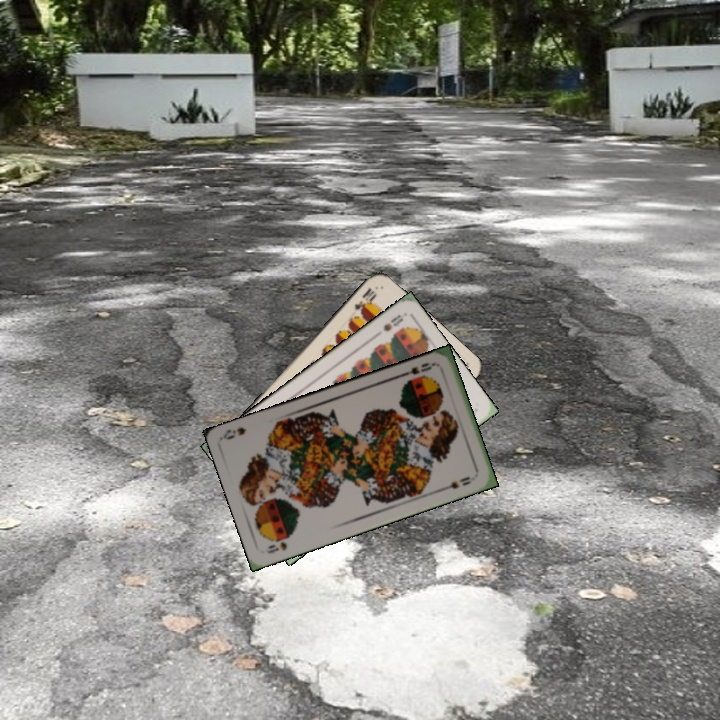E10: (350, 284, 380, 317)
S8: (379, 310, 406, 334)
SO: (399, 358, 438, 379), (264, 537, 289, 556)
